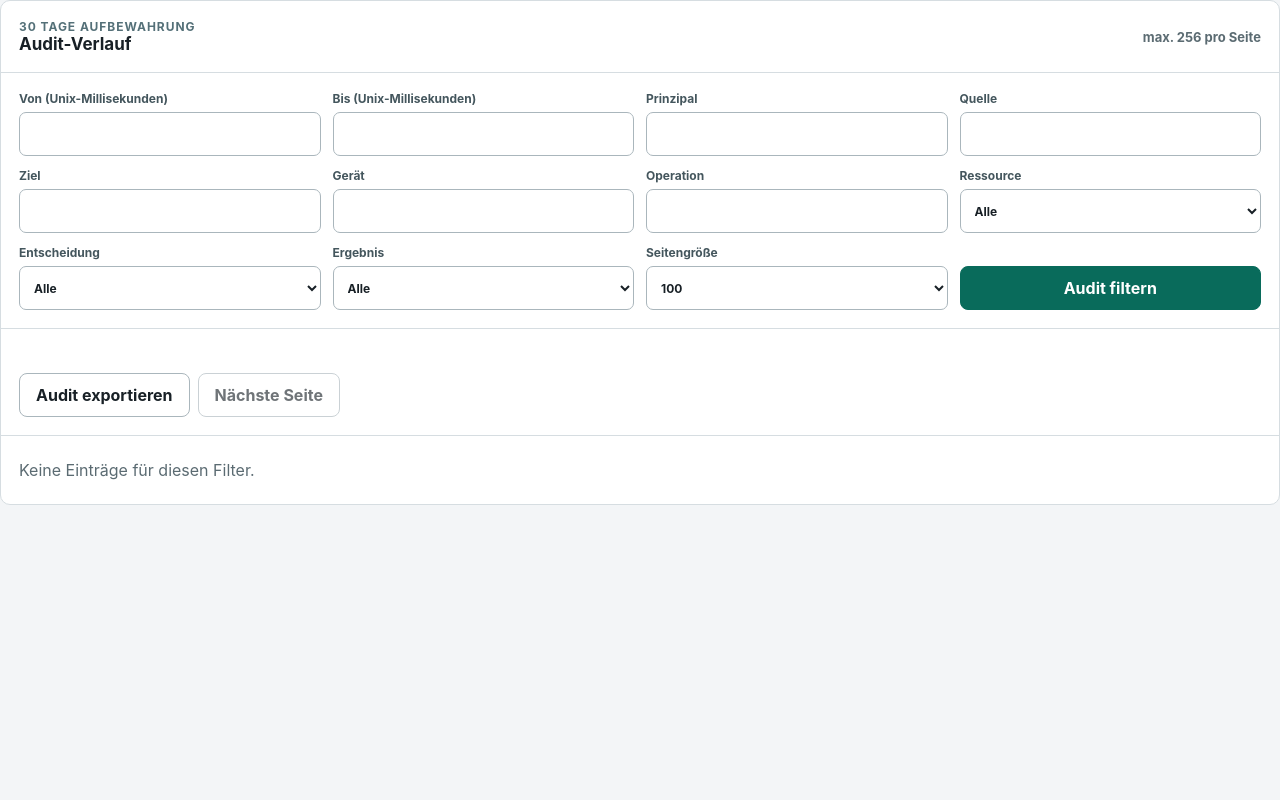
it: AuditHistory › provides keyboard-operable typed filters, bounded pages and safe redacted preformatted text
In the field labelled "Prinzipal": (797, 134) [646,112,948,156], type "agent-codex"
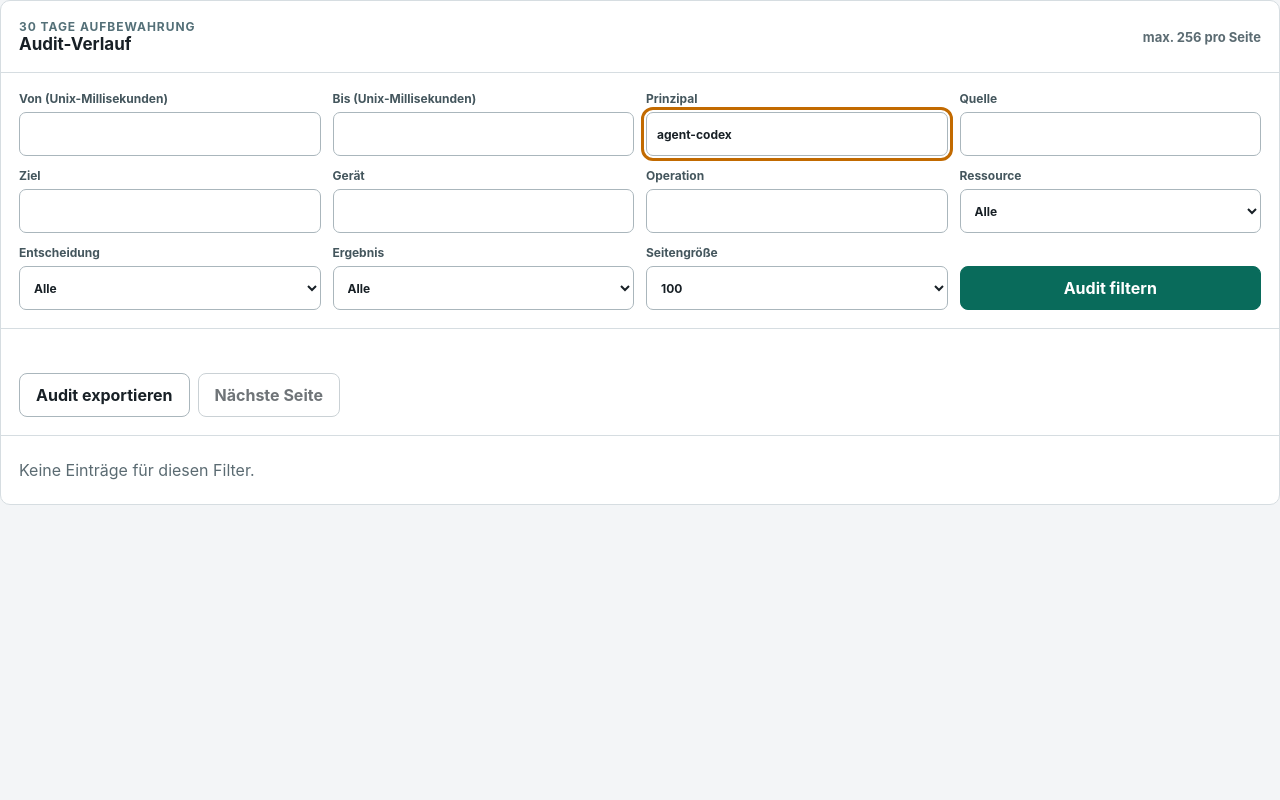
Select "Erfolgreich" in the dropdown labelled "Ergebnis": (483, 288) [332,266,634,310]
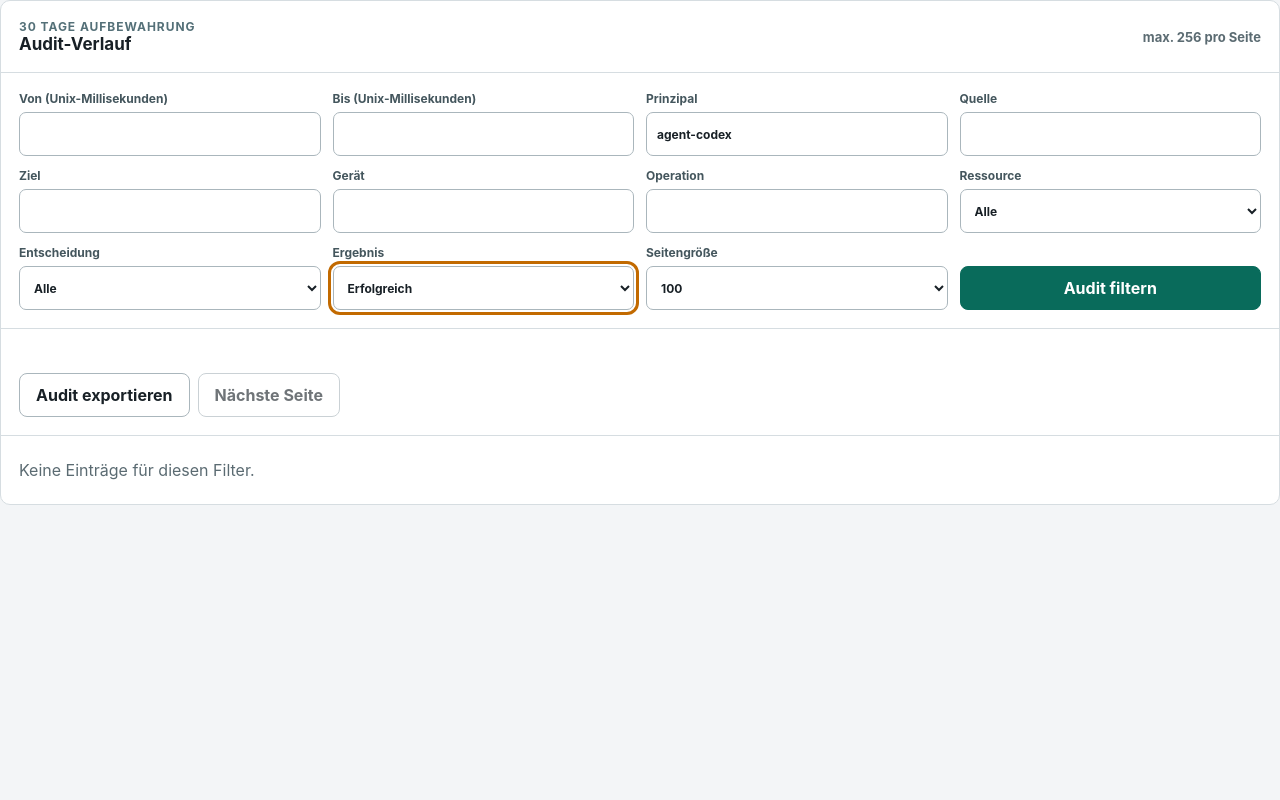
Click the button "Audit filtern": click(1110, 288) [960,266,1261,310]
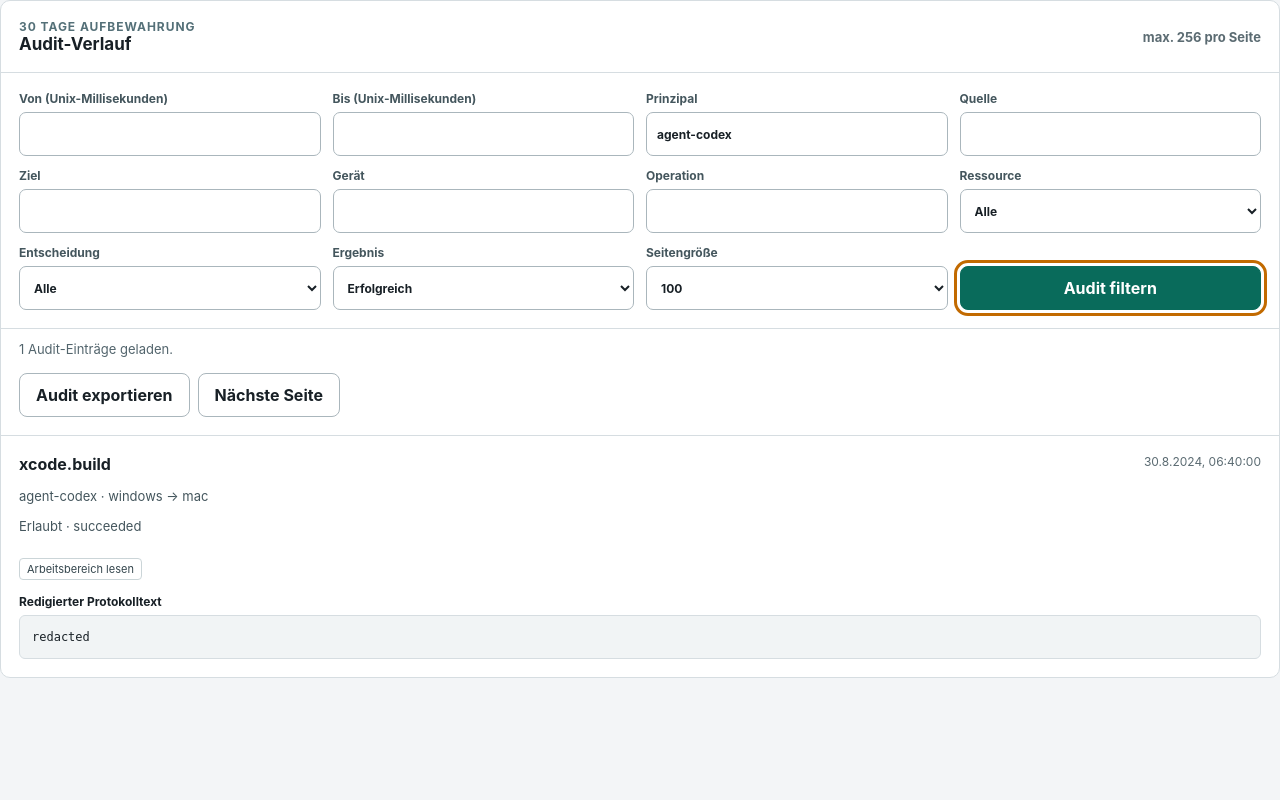
Expected: the dropdown labelled "Seitengröße" shows "100", [646,266,948,310]
Expected: the text "Redigierter Protokolltext" is shown, [19,594,162,609]
Expected: the button "Nächste Seite" is enabled, [198,373,340,417]
